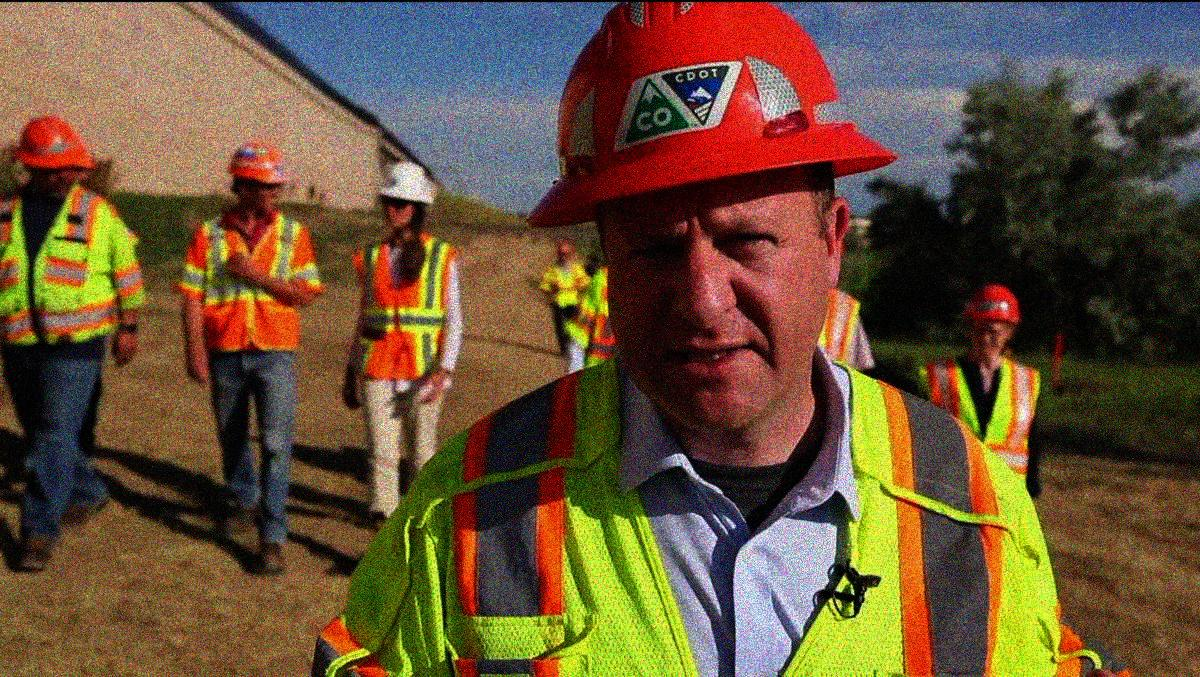helmet: (529, 1, 898, 429), (16, 116, 81, 200), (962, 282, 1024, 358), (375, 158, 437, 231), (228, 142, 288, 209), (74, 137, 99, 189), (557, 242, 571, 268)
